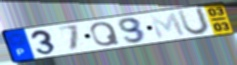3: (30, 28, 62, 57)
7: (56, 25, 81, 53)
9: (117, 16, 149, 45)
M: (148, 11, 188, 41)
Q: (90, 21, 123, 48)
U: (176, 6, 212, 37)
